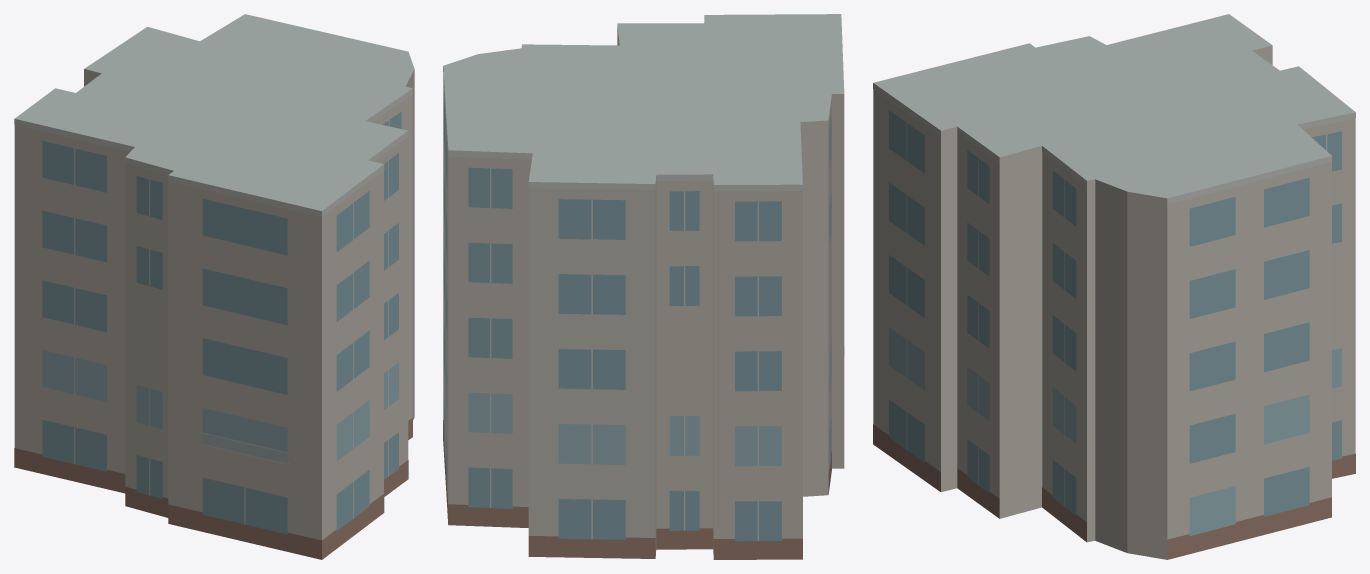
Rendered from survey-upis-32823408.glb.
The picture shows the model from 3 angles, left to right: view 1: azimuth 30°, elevation 25°; view 2: azimuth 150°, elevation 25°; view 3: azimuth 270°, elevation 25°; orthographic projection. The views are drawn at different scales.
Parts seen in each view (by area): view 1: survey-upis-32823408.tmp; view 2: survey-upis-32823408.tmp; view 3: survey-upis-32823408.tmp.
Part boxes in pixels (left/top/right/bottom): survey-upis-32823408.tmp: left=14, top=14, right=414, bottom=559; survey-upis-32823408.tmp: left=443, top=14, right=844, bottom=559; survey-upis-32823408.tmp: left=873, top=14, right=1355, bottom=559.
Size of the model in its own units: 15.86 by 14.5 by 17.55.
